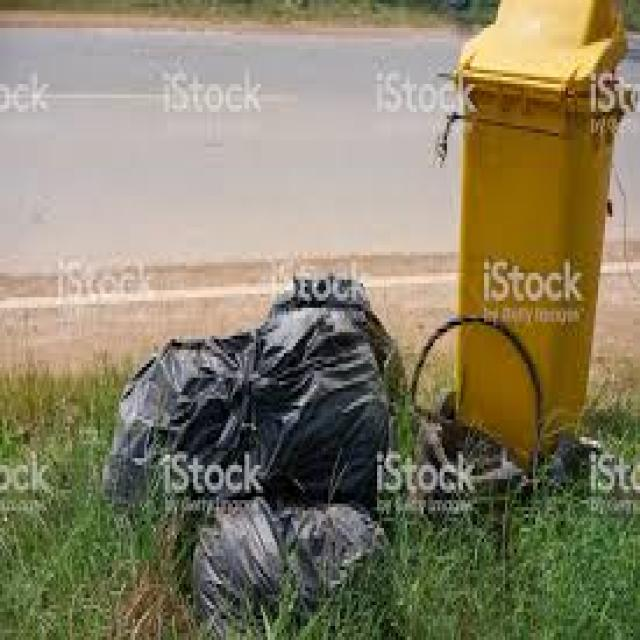garbage: (107, 264, 405, 506), (190, 496, 402, 636), (407, 312, 548, 468)
